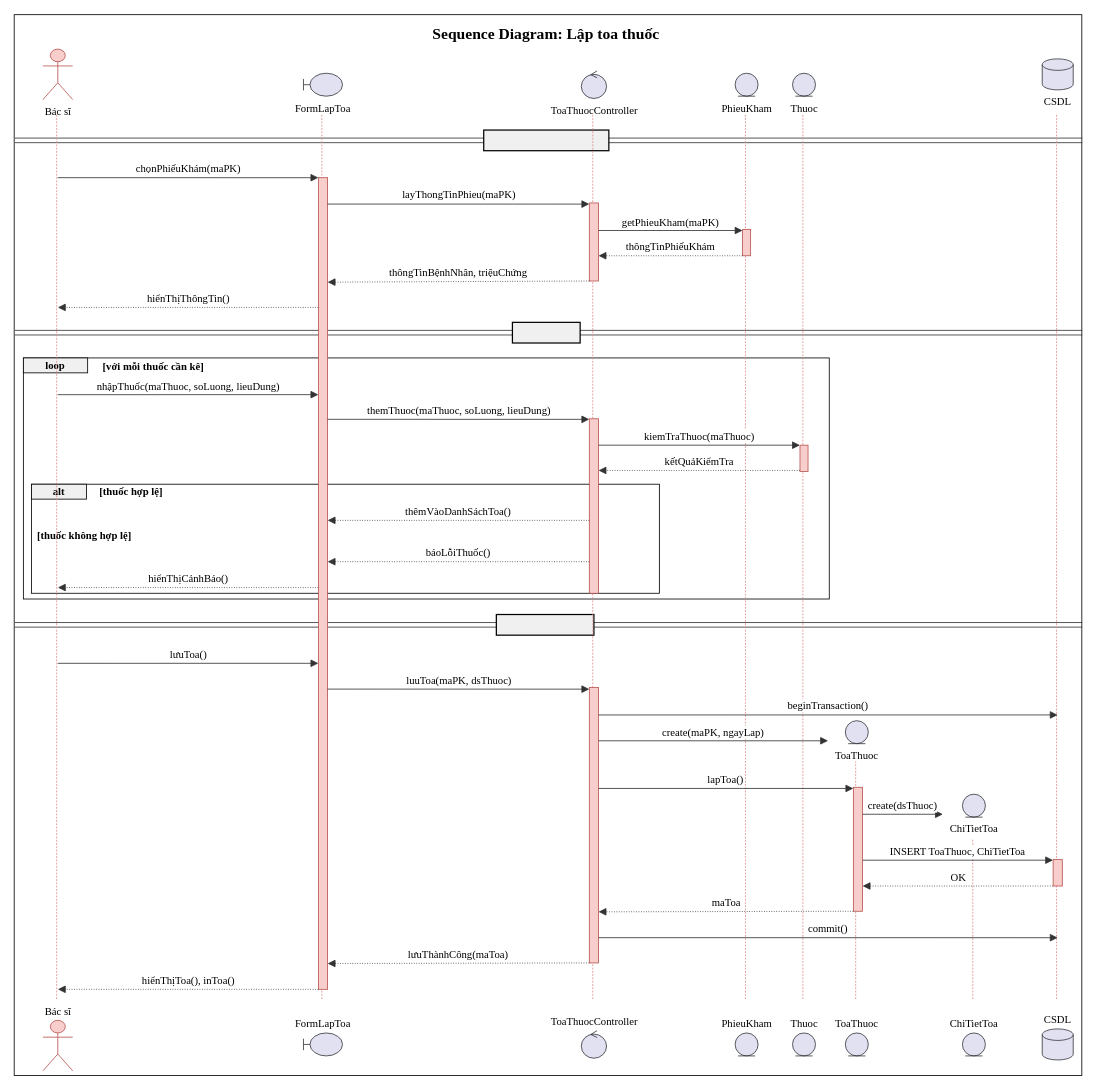
The diagram is 1096 pixels wide and 1090 high, and some of its shapes have lost their labels. The shapes that lost their labels are listed below. From the top down, each one's box as (x1, y1, x2, y2) in pixels, then its label:
(483, 129, 609, 151): Chọn phiếu khám
(511, 321, 580, 343): Kê thuốc
(495, 614, 594, 635): Lưu toa thuốc
